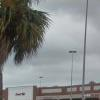Palm tree: (2, 2, 50, 83)
